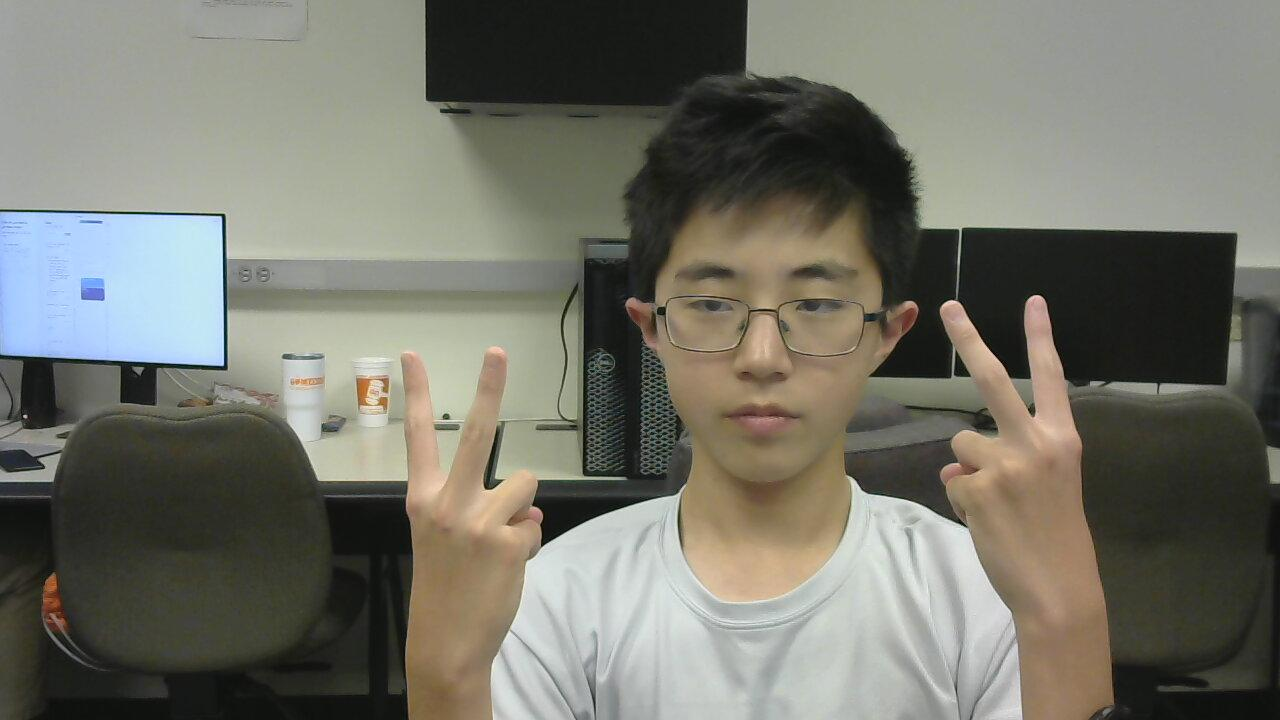peace: (358, 334, 555, 696), (931, 289, 1100, 654)
